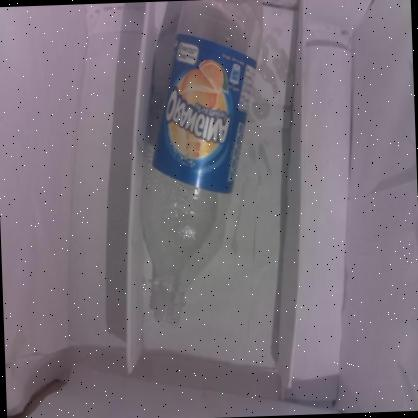bottle: (124, 0, 279, 334)
label: (145, 39, 268, 192)
